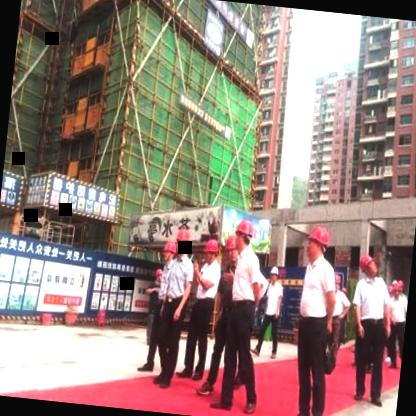helmet: (300, 219, 334, 263), (232, 215, 255, 252), (357, 250, 383, 278), (223, 228, 242, 264), (173, 228, 191, 260), (264, 260, 284, 286), (202, 237, 221, 264), (160, 240, 176, 264)
